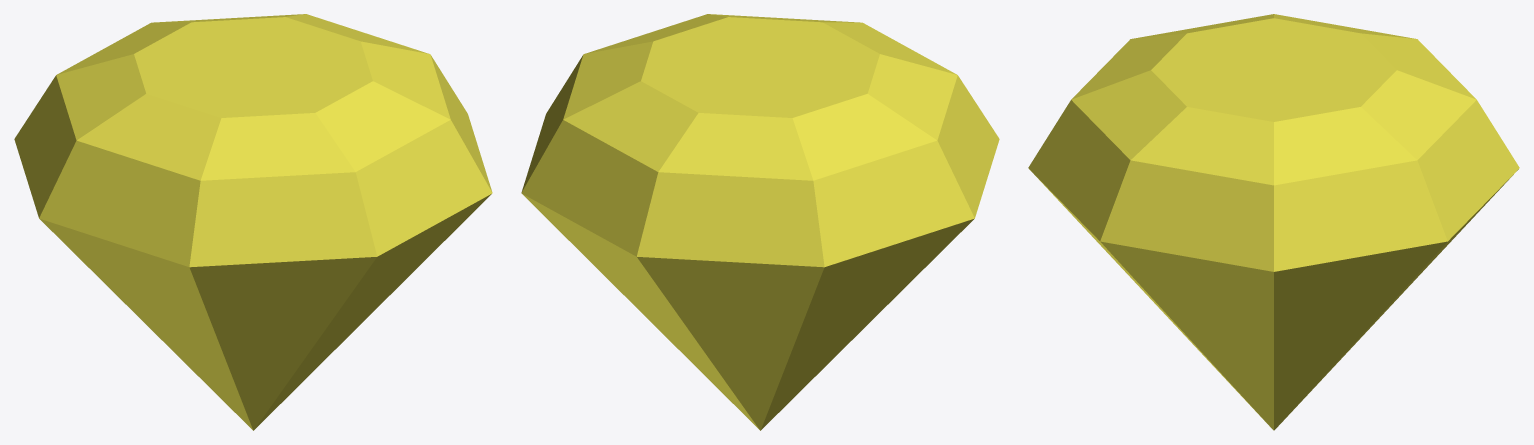
Rendered from Citrine.fbx.
3 views of the same model, side by side, from view 1: azimuth 30°, elevation 25°; view 2: azimuth 150°, elevation 25°; view 3: azimuth 270°, elevation 25° (orthographic).
Parts seen in each view (by area): view 1: Citrine; view 2: Citrine; view 3: Citrine.
Part boxes in pixels (x1=…): Citrine: x1=14, y1=14, x2=492, y2=430; Citrine: x1=521, y1=14, x2=999, y2=430; Citrine: x1=1028, y1=14, x2=1519, y2=430.
Bounding box in the file's own units: 43.99 × 35.62 × 43.99.
